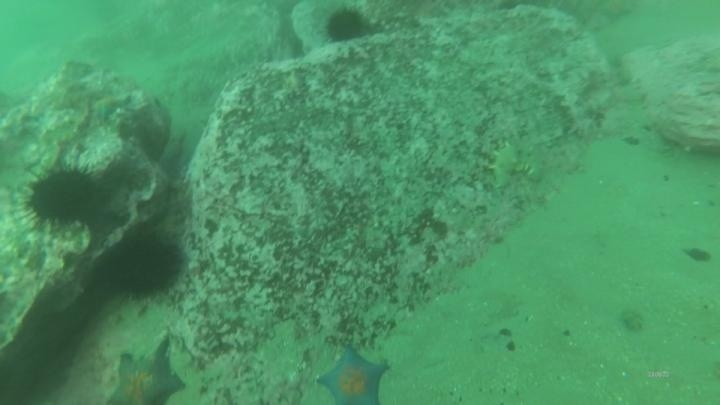echinus: (99, 227, 187, 301), (21, 159, 107, 232), (322, 6, 369, 45)
holothurian: (485, 137, 549, 191)
starfish: (104, 338, 187, 405), (315, 344, 392, 405), (89, 90, 130, 123)
